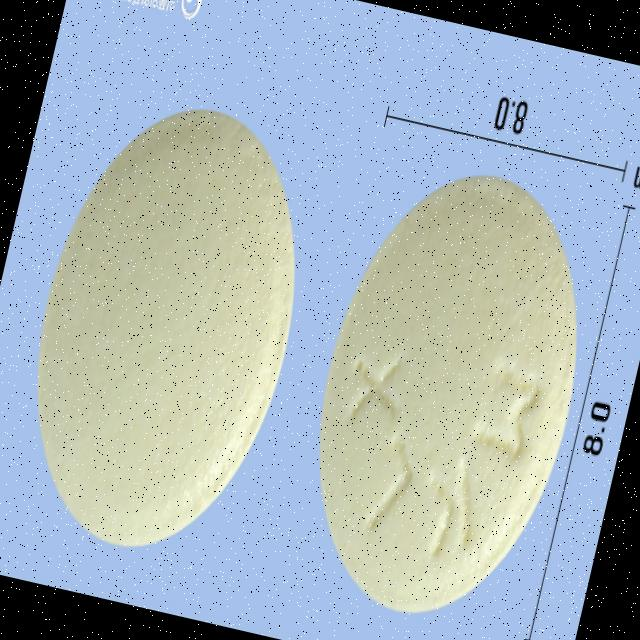Lerocin: (275, 151, 616, 640), (0, 85, 334, 576)
